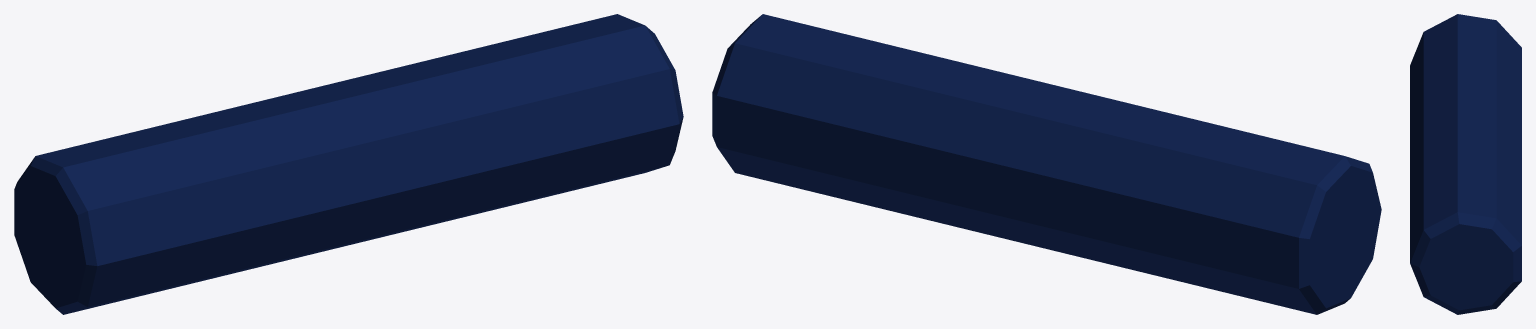
File: chalk_1.fbx
The picture shows the model from 3 angles, left to right: view 1: azimuth 30°, elevation 25°; view 2: azimuth 150°, elevation 25°; view 3: azimuth 270°, elevation 25°; orthographic projection. The views are drawn at different scales.
Parts seen in each view (by area): view 1: chalk_1_export; view 2: chalk_1_export; view 3: chalk_1_export.
Boxes of the visible parts, left/top/right/bottom form: chalk_1_export: left=14, top=14, right=683, bottom=314; chalk_1_export: left=712, top=14, right=1381, bottom=314; chalk_1_export: left=1410, top=14, right=1521, bottom=314.
Bounding box in the file's own units: 14.65 × 3.44 × 3.39.
